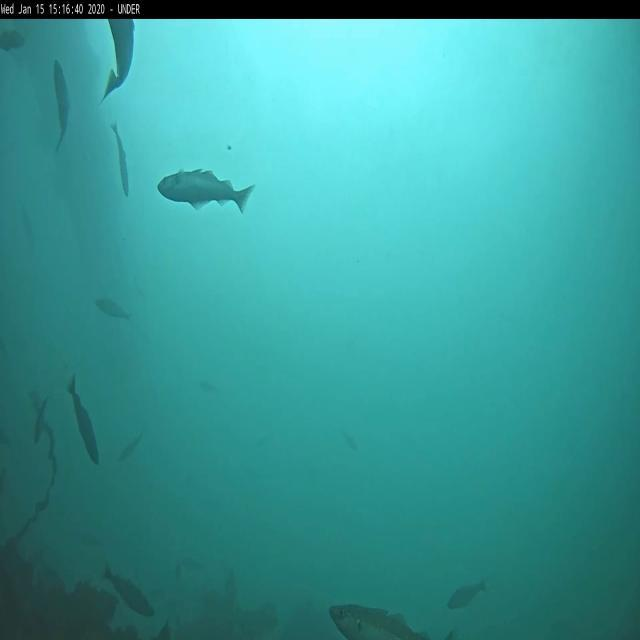fish: (158, 168, 255, 212), (328, 601, 428, 639), (100, 20, 134, 103), (67, 378, 99, 466), (102, 568, 156, 612), (54, 61, 71, 154), (111, 124, 130, 198), (446, 582, 484, 612), (94, 296, 132, 318), (120, 432, 142, 460), (2, 32, 25, 50)
